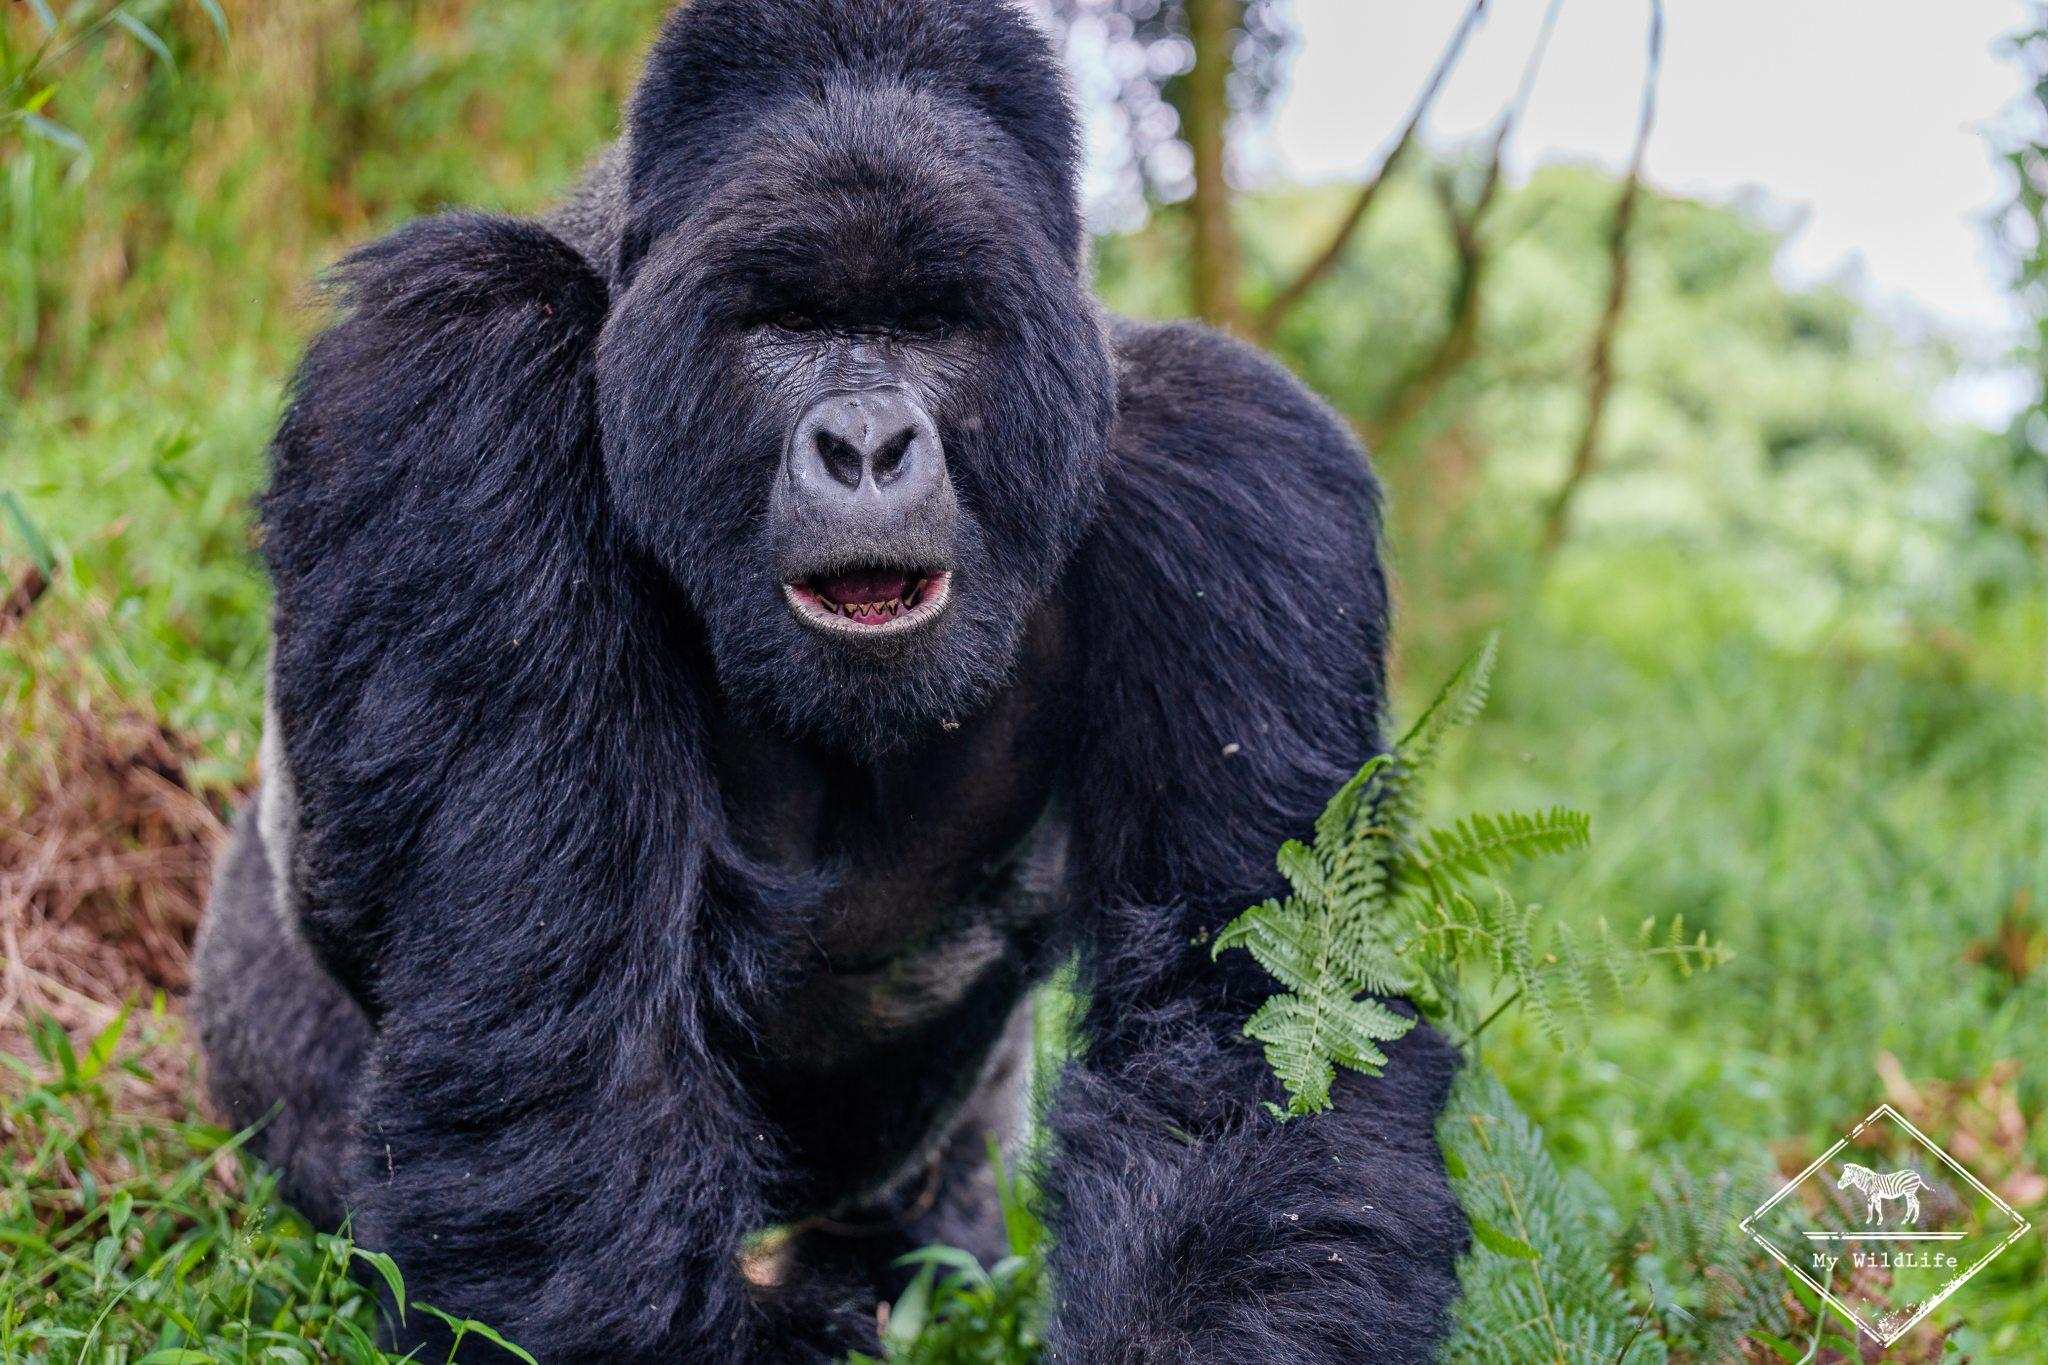goriile_montagne: (199, 0, 1471, 1363)
